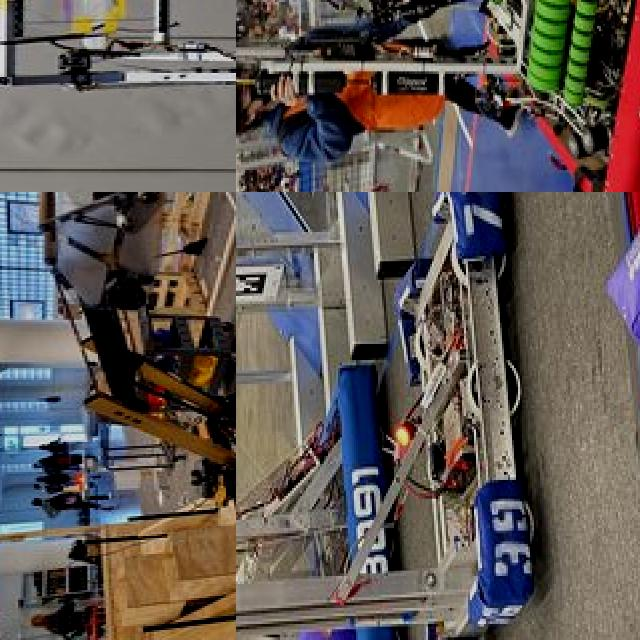FRC-Robots: (236, 192, 533, 640), (236, 0, 640, 192), (78, 331, 236, 579), (0, 0, 236, 158)
